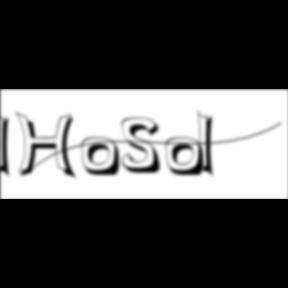H: (15, 112, 81, 182)
I: (1, 110, 18, 182)
S: (122, 117, 168, 176)
l: (198, 108, 220, 182)
o: (81, 137, 123, 179), (166, 137, 208, 179)
